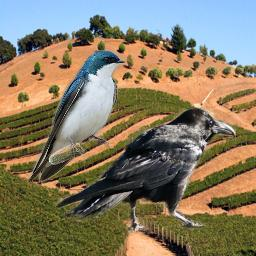Crow: (54, 106, 236, 238)
Swallow: (27, 50, 127, 184)
